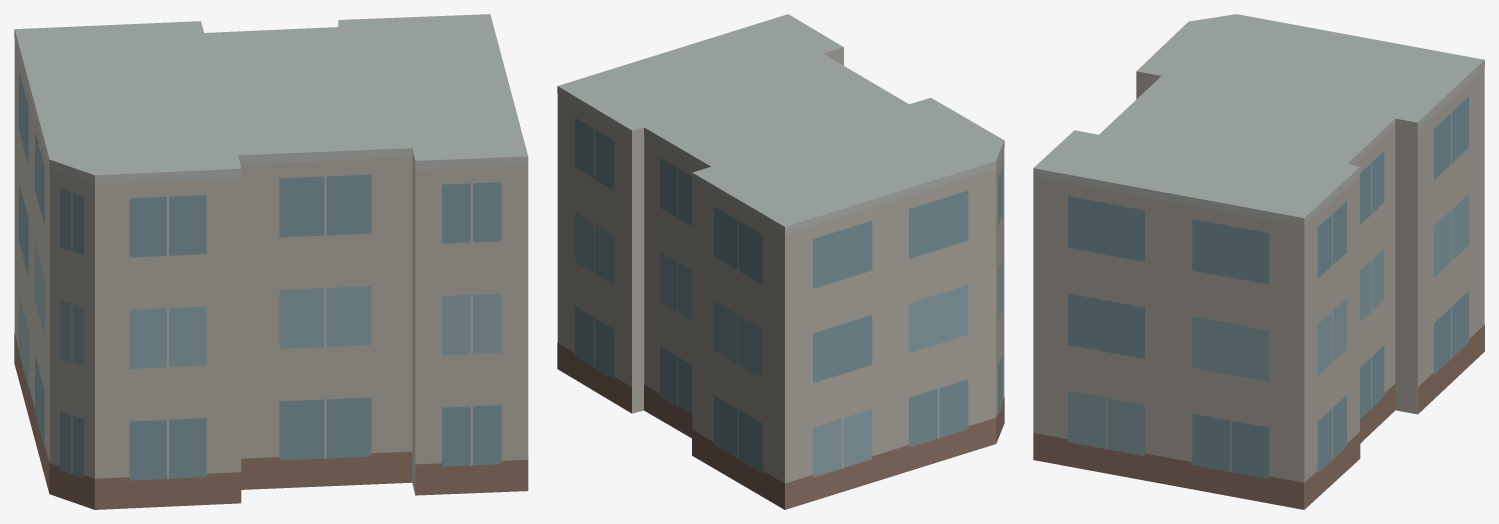
File: survey-upis-32534065.glb
3 renders of one model, left to right at view 1: azimuth 30°, elevation 25°; view 2: azimuth 150°, elevation 25°; view 3: azimuth 270°, elevation 25°, orthographic. The views are drawn at different scales.
Visible parts, largest first — view 1: survey-upis-32534065.tmp; view 2: survey-upis-32534065.tmp; view 3: survey-upis-32534065.tmp.
Boxes of the visible parts, left/top/right/bottom form: survey-upis-32534065.tmp: left=14, top=14, right=528, bottom=509; survey-upis-32534065.tmp: left=557, top=14, right=1004, bottom=509; survey-upis-32534065.tmp: left=1033, top=14, right=1484, bottom=509.
Bounding box in the file's own units: 13.66 × 9.1 × 12.77.
